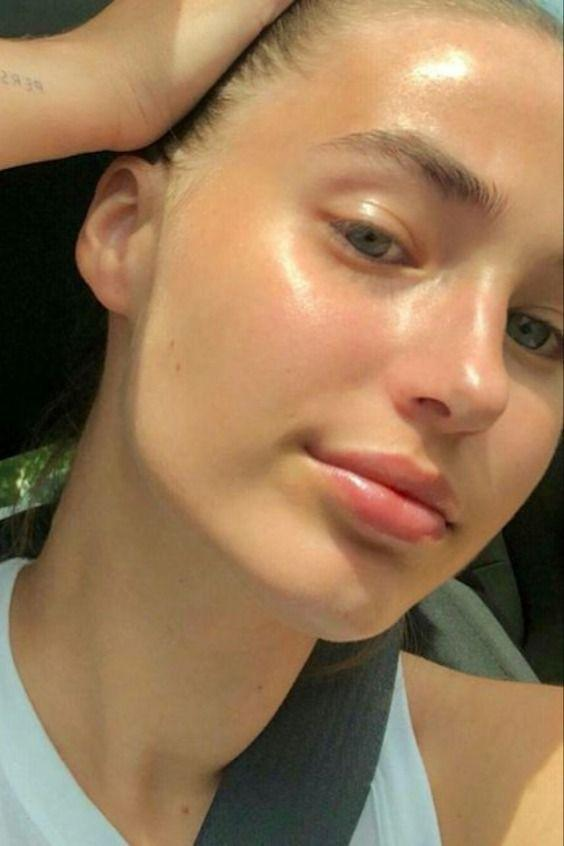Oily-Skin: (208, 186, 345, 365), (443, 231, 528, 446), (368, 48, 564, 121), (358, 281, 456, 365)
